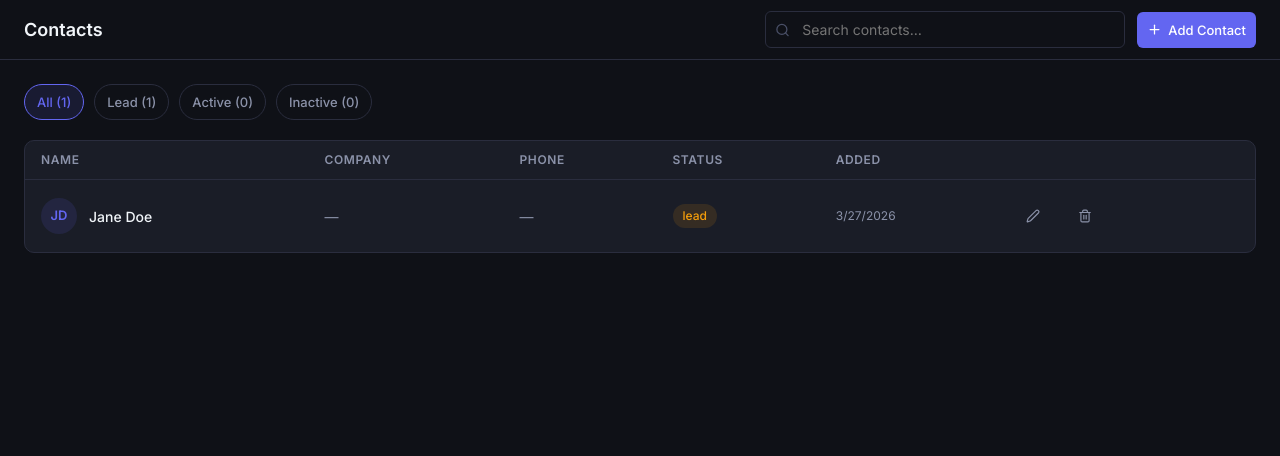
Test case: Contacts Page › deletes a contact
Step 1. Click the button with test id "delete-btn" → (1092, 216), box [1070,194,1114,238]
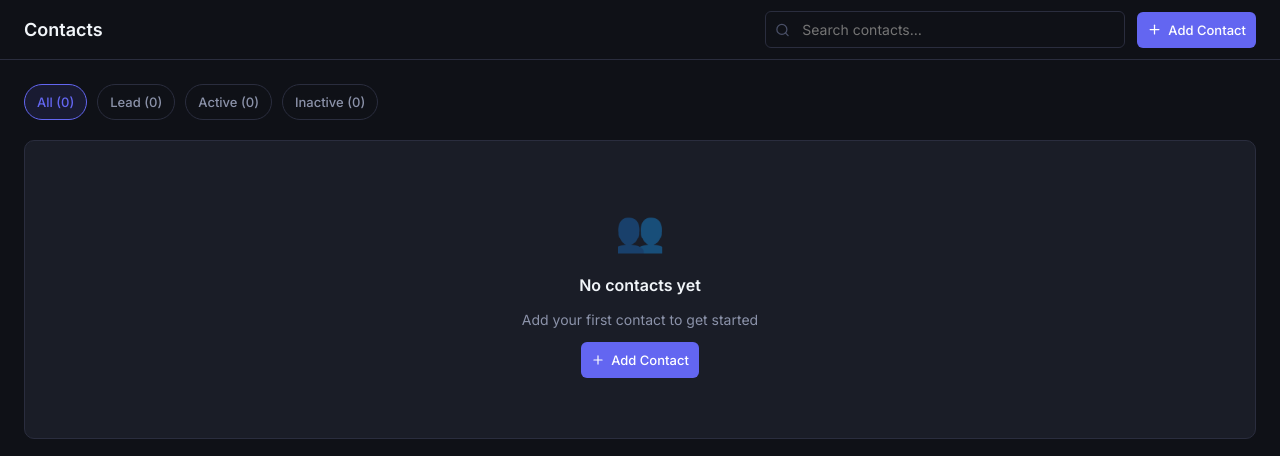
Check: the row with test id "contact-row" is gone
